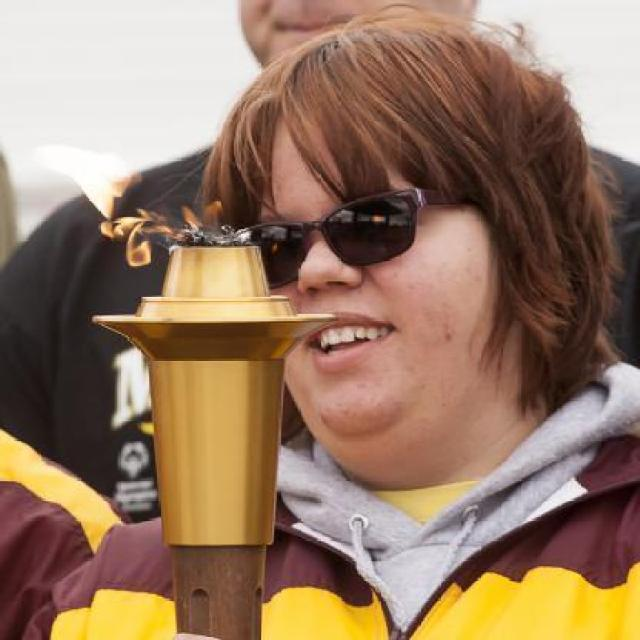face_nomask: (241, 193, 434, 381)
glasses: (235, 179, 479, 270)
head_nohelmet: (224, 31, 501, 186)
